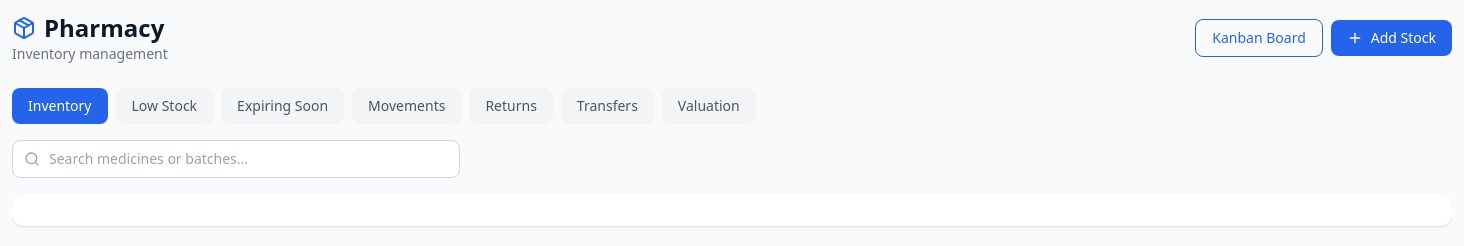
Test: PharmacyPage (inventory dashboard — full surface) › Returns tab — renders 'No returns.' when empty and swallows rejection
Step 1. Click the button "Returns" → [511, 106], box [469,88,553,124]
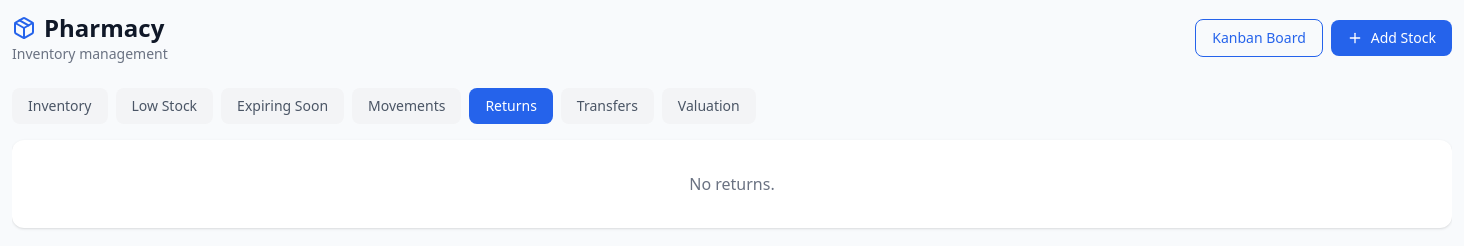
Check: the text "No returns." is shown, box [689,173,775,195]
